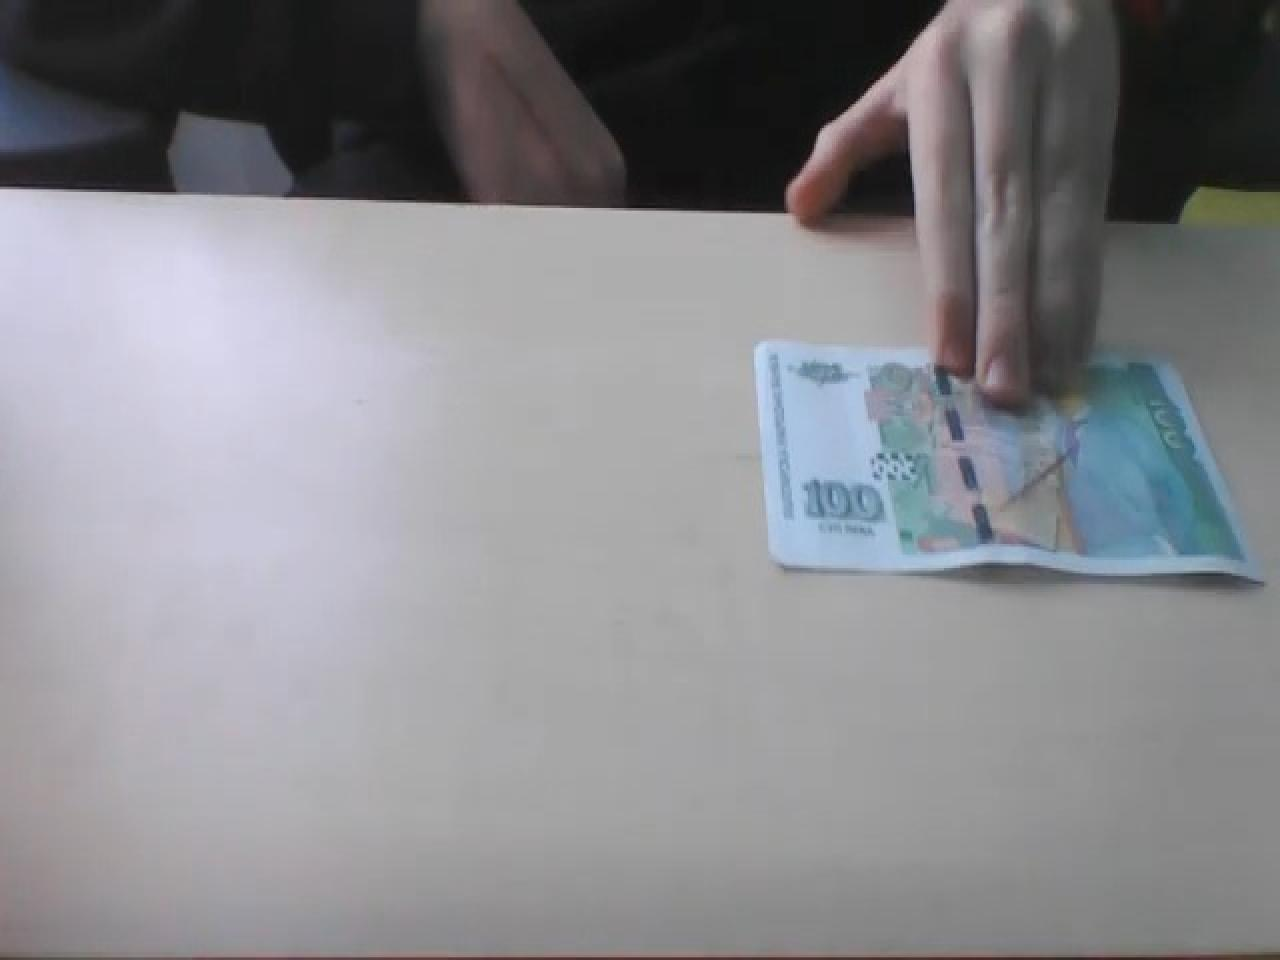100leva: (754, 339, 1262, 589), (754, 339, 1256, 584)
